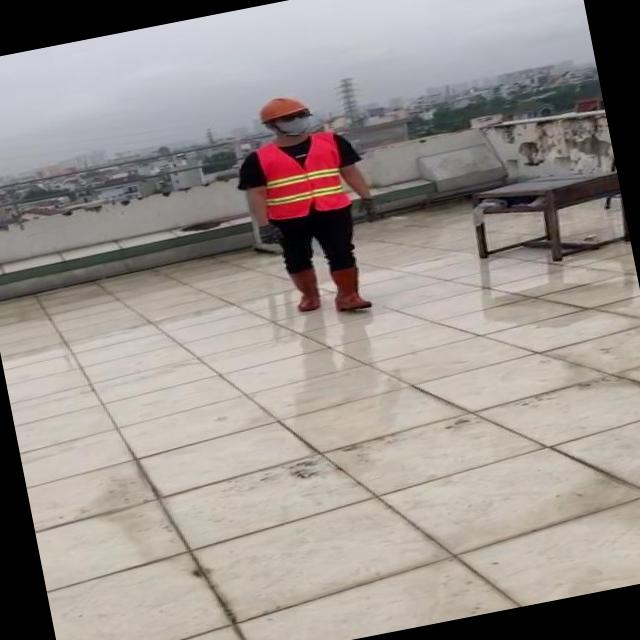boots: (330, 264, 377, 314), (285, 266, 325, 315)
gloves: (354, 194, 380, 227), (257, 220, 286, 248)
helmet: (252, 91, 314, 126)
vest: (253, 128, 351, 222)
